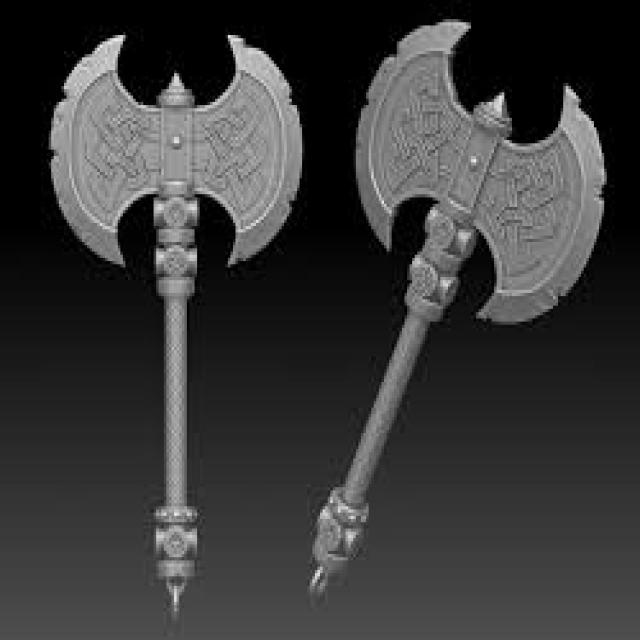Gun: (297, 15, 619, 612), (15, 17, 301, 640)
